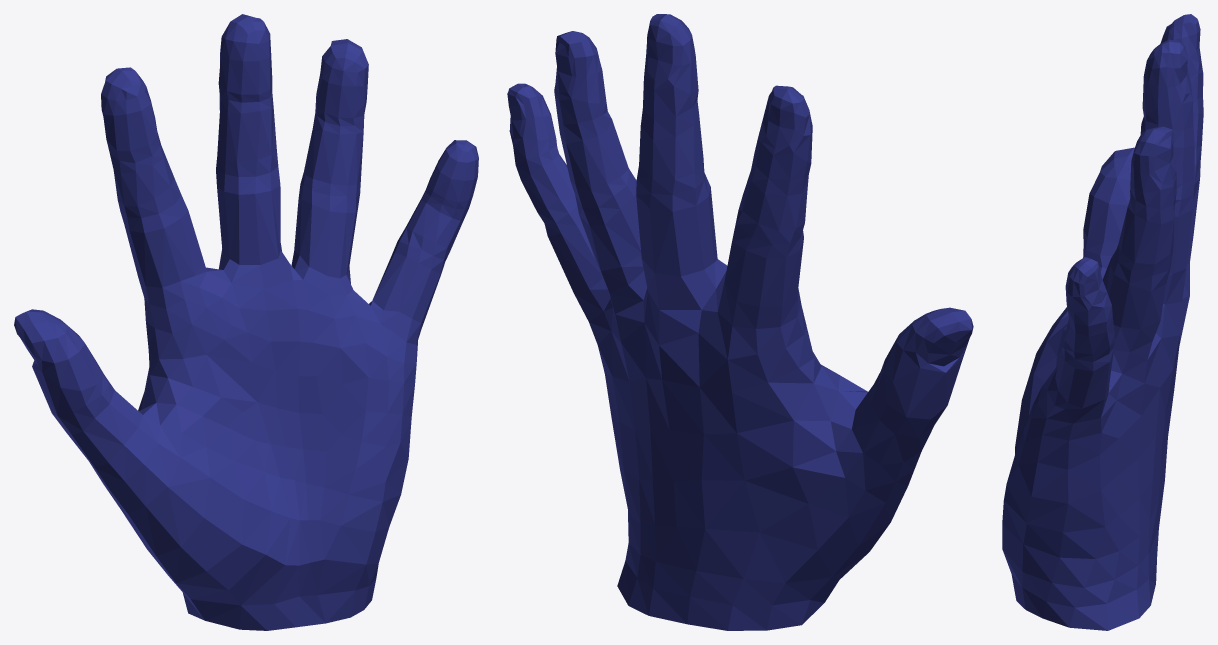
The picture shows the model from 3 angles, left to right: view 1: azimuth 30°, elevation 25°; view 2: azimuth 150°, elevation 25°; view 3: azimuth 270°, elevation 25°; orthographic projection. The views are drawn at different scales.
Bounding box in the file's own units: 0.1538 × 0.1865 × 0.0616.
